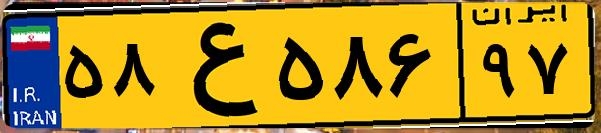5: (270, 28, 330, 110), (57, 26, 110, 100)
6: (385, 28, 445, 110)
7: (525, 38, 570, 115)
8: (330, 28, 385, 110), (110, 28, 158, 98)
9: (475, 38, 525, 113)
ع: (158, 12, 270, 120)
